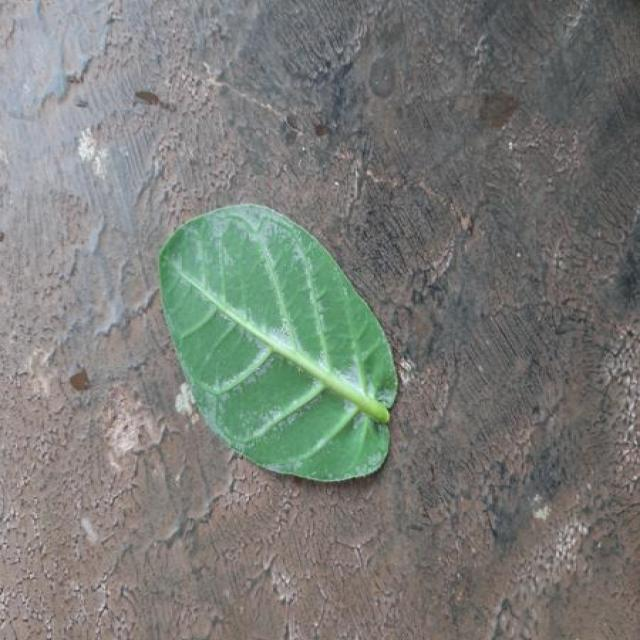ekka: (160, 206, 398, 481)
